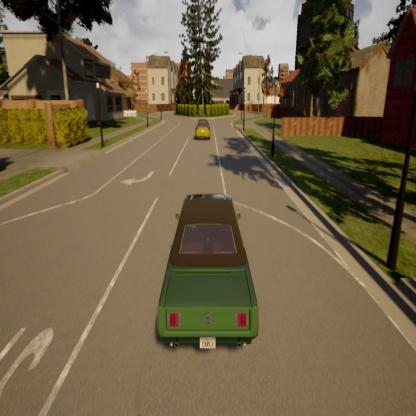Cars: (152, 187, 266, 368)
